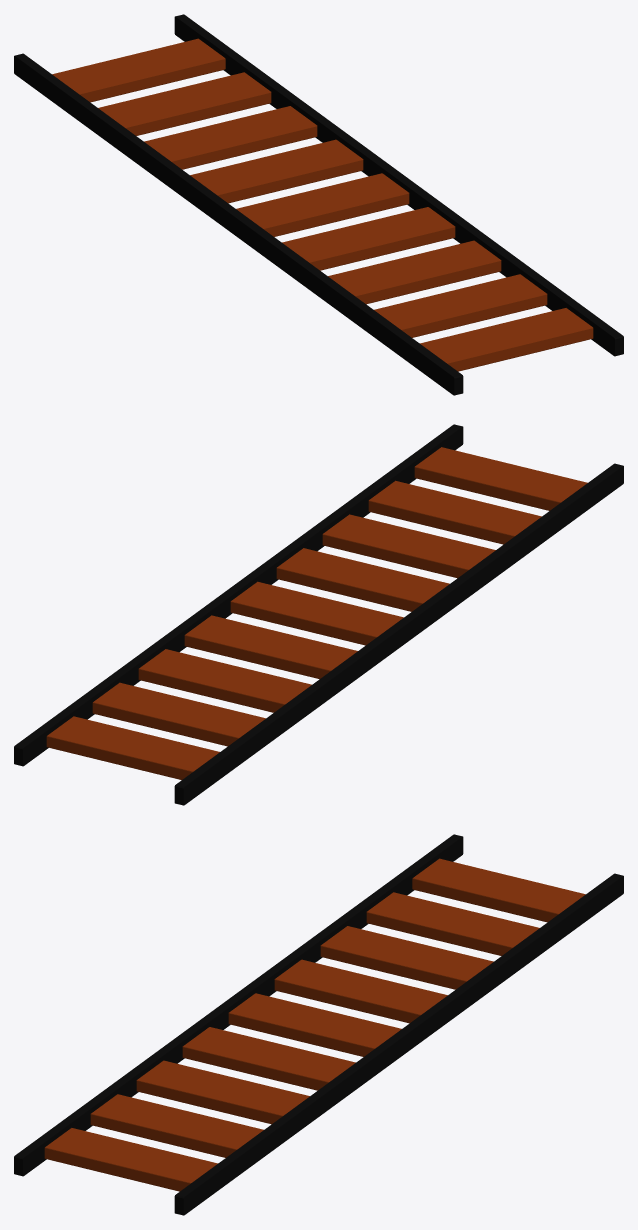
File: Rail.FBX
The picture shows the model from 3 angles, top to bottom: view 1: azimuth 30°, elevation 25°; view 2: azimuth 150°, elevation 25°; view 3: azimuth 330°, elevation 25°; orthographic projection.
Visible parts, largest first — view 1: Rail; view 2: Rail; view 3: Rail.
Boxes of the visible parts, box(x1,y1,x2,y2) form: Rail: box(14, 14, 623, 395); Rail: box(14, 424, 623, 805); Rail: box(14, 834, 623, 1215).
Size of the model in its own units: 42.45 by 4.4 by 191.
